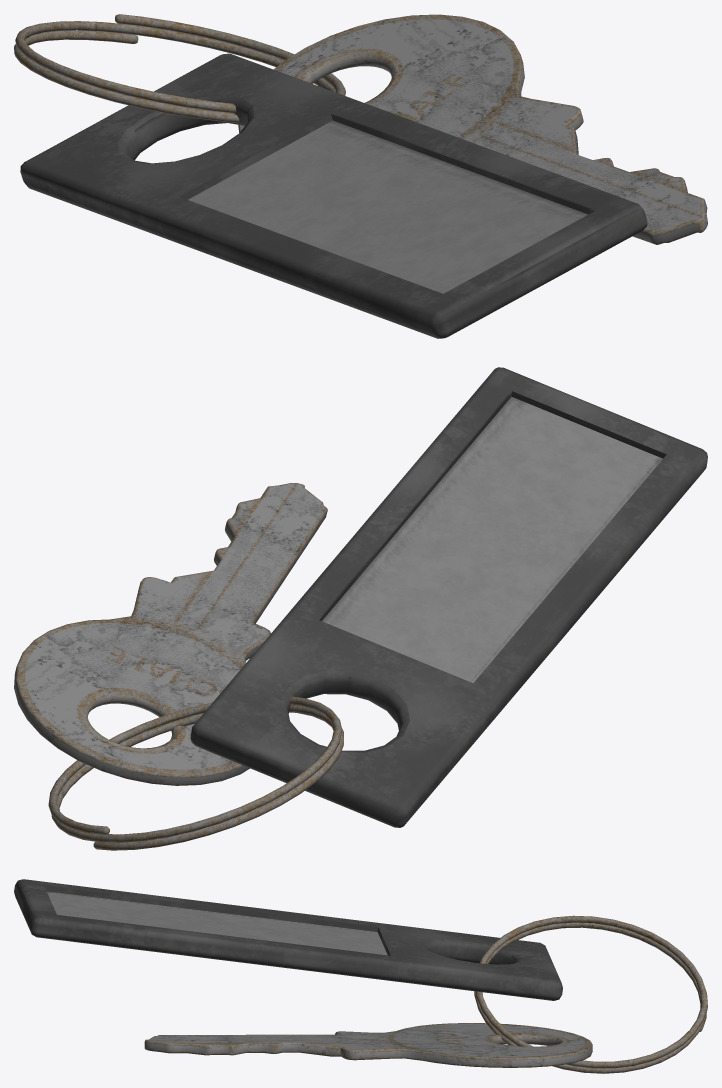
Rendered from KeyTable.fbx.
The picture shows the model from 3 angles, top to bottom: view 1: azimuth 30°, elevation 25°; view 2: azimuth 150°, elevation 25°; view 3: azimuth 270°, elevation 25°; orthographic projection. The views are drawn at different scales.
Visible parts, largest first — view 1: SM_KeyTag, SM_Key, SM_Ring; view 2: SM_KeyTag, SM_Key, SM_Ring; view 3: SM_KeyTag, SM_Key, SM_Ring.
Part boxes in pixels (x1=…): SM_KeyTag: x1=20, y1=53, x2=647, y2=338; SM_Key: x1=238, y1=14, x2=707, y2=244; SM_Ring: x1=14, y1=14, x2=345, y2=122; SM_KeyTag: x1=190, y1=367, x2=707, y2=827; SM_Key: x1=14, y1=483, x2=327, y2=785; SM_Ring: x1=48, y1=696, x2=343, y2=850; SM_KeyTag: x1=14, y1=879, x2=562, y2=1000; SM_Key: x1=144, y1=1023, x2=592, y2=1067; SM_Ring: x1=474, y1=915, x2=707, y2=1073.
Bounding box in the file's own units: 5.19 × 2.1 × 9.92.
